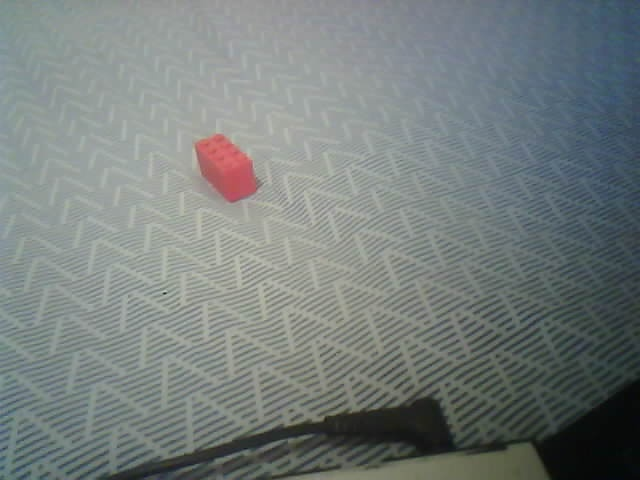lego: (195, 133, 257, 202)
